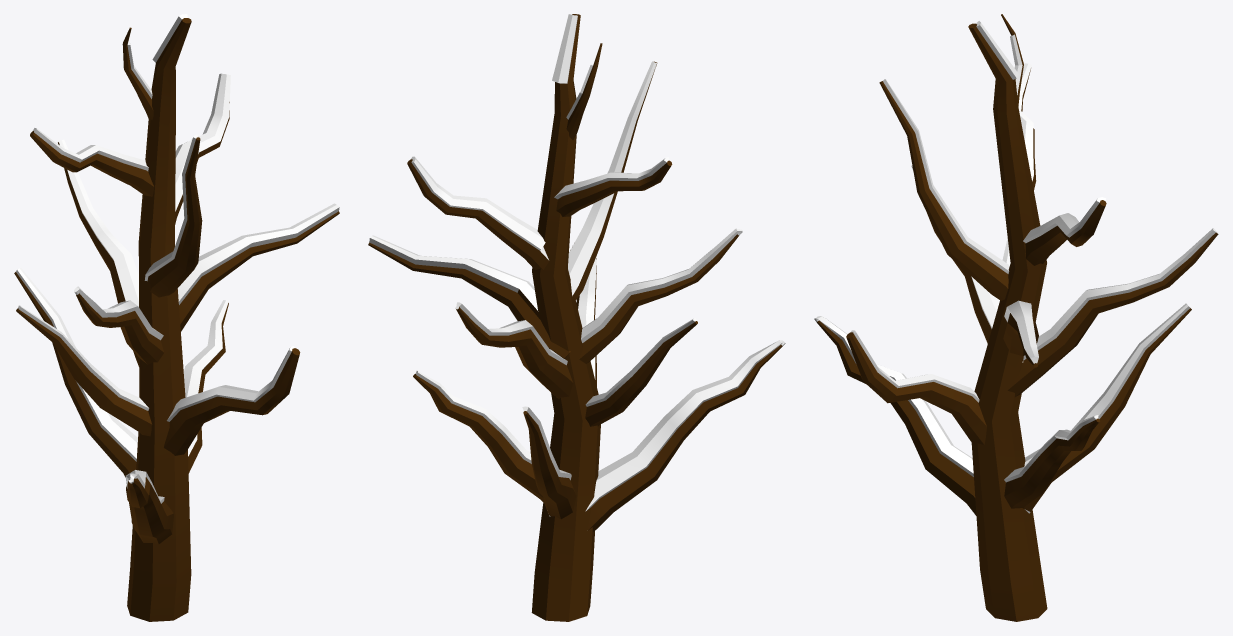
File: christmasDeadTree1.dae
The picture shows the model from 3 angles, left to right: view 1: azimuth 30°, elevation 25°; view 2: azimuth 150°, elevation 25°; view 3: azimuth 270°, elevation 25°; orthographic projection. The views are drawn at different scales.
Visible parts, largest first — view 1: Dead_tree_one; view 2: Dead_tree_one; view 3: Dead_tree_one.
Part boxes in pixels (x1,y1,x2,y2): Dead_tree_one: (14, 14, 339, 621); Dead_tree_one: (368, 14, 785, 621); Dead_tree_one: (814, 14, 1218, 621).
Size of the model in its own units: 0.0752 by 0.0814 by 0.1308.
